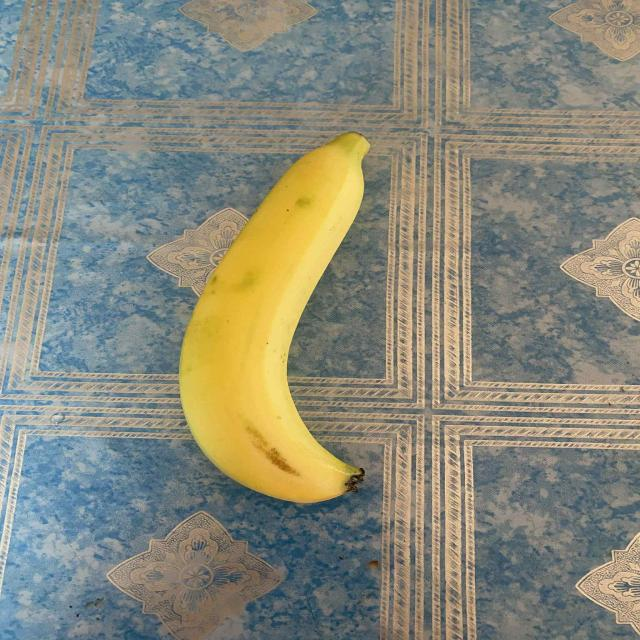Ripe: (108, 63, 516, 544)
